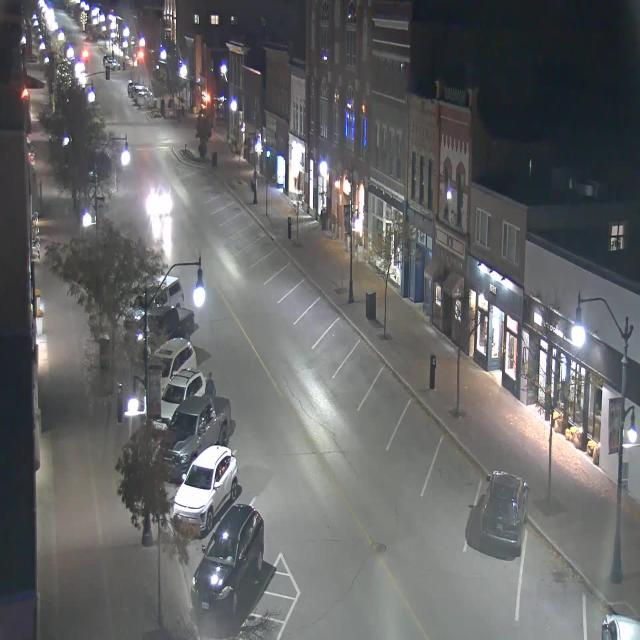available: (517, 522, 591, 636), (429, 419, 484, 508), (394, 387, 442, 462), (342, 327, 384, 394), (370, 365, 409, 428), (320, 304, 360, 364), (304, 283, 340, 340), (288, 267, 320, 317), (277, 254, 302, 294), (266, 242, 288, 276), (254, 228, 274, 258), (246, 218, 265, 247), (236, 205, 254, 232), (230, 194, 246, 218), (219, 186, 234, 208)
occupied: (190, 502, 264, 614), (172, 442, 238, 536), (165, 392, 236, 475), (577, 553, 640, 640), (480, 469, 529, 554), (156, 365, 214, 422), (148, 332, 200, 386), (146, 297, 198, 351), (136, 268, 188, 313)
